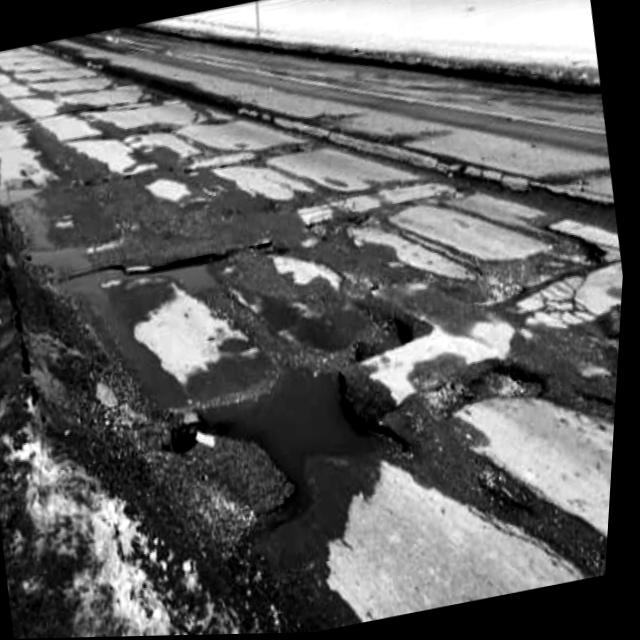pathole: (35, 215, 624, 629), (0, 100, 372, 447), (0, 29, 198, 265)
